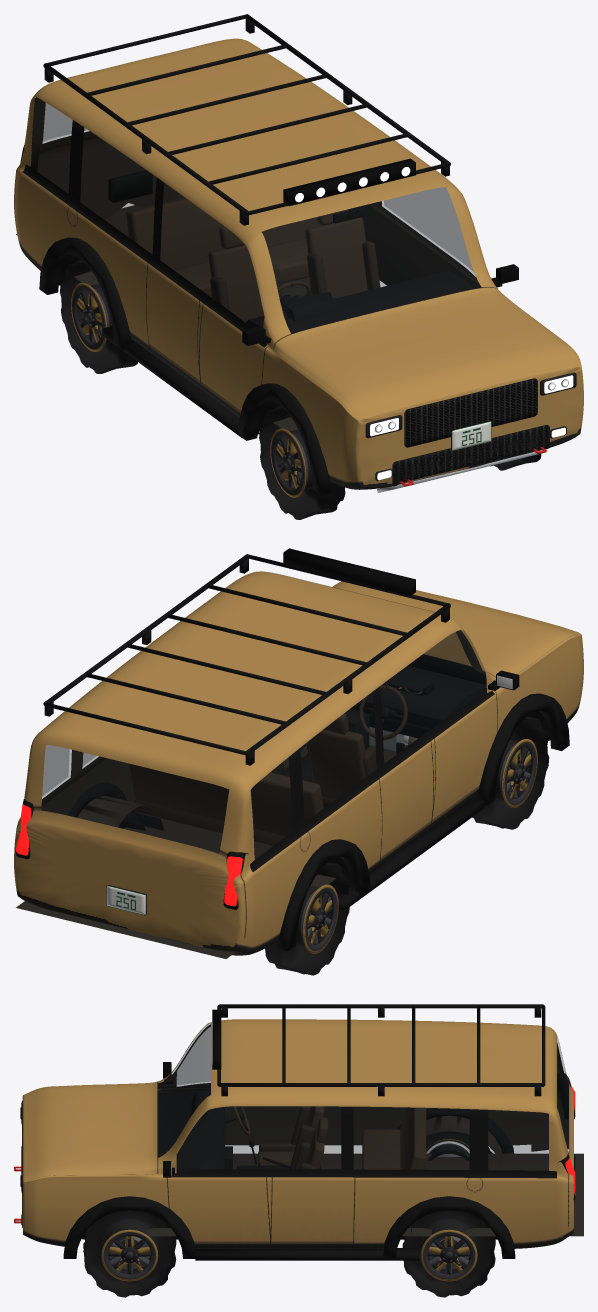
File: yama.glb
3 renders of one model, top to bottom at view 1: azimuth 30°, elevation 25°; view 2: azimuth 150°, elevation 25°; view 3: azimuth 270°, elevation 25°, orthographic. The views are drawn at different scales.
Parts seen in each view (by area): view 1: body.007, aero_o0.008, wheelmesh_FR.007, wheelmesh_RR.007, wheelmesh_FR_o1.008, wheelmesh_RR_o1.008, wheelmesh_FR_o2.008, wheelmesh_RR_o2.008; view 2: body.007, aero_o0.008, wheelmesh_FR.007, wheelmesh_RR.007, wheelmesh_FR_o1.008, wheelmesh_RR_o1.008, steering_wheel.007, wheelmesh_RR_o2.008, wheelmesh_FR_o2.008; view 3: body.007, aero_o0.008, wheelmesh_FL.007, wheelmesh_RL.007, wheelmesh_RL_o1.008, wheelmesh_FL_o1.008, wheelmesh_RR.007, wheelmesh_RL_o2.008, wheelmesh_FL_o2.008.
Part boxes in pixels (bbox=[...]): body.007: bbox=[14, 38, 583, 495]; aero_o0.008: bbox=[43, 14, 450, 225]; wheelmesh_FR.007: bbox=[259, 406, 345, 519]; wheelmesh_RR.007: bbox=[60, 260, 137, 373]; wheelmesh_FR_o1.008: bbox=[271, 431, 303, 495]; wheelmesh_RR_o1.008: bbox=[72, 285, 104, 349]; wheelmesh_FR_o2.008: bbox=[270, 428, 306, 497]; wheelmesh_RR_o2.008: bbox=[71, 282, 106, 351]; body.007: bbox=[14, 571, 583, 958]; aero_o0.008: bbox=[43, 548, 450, 765]; wheelmesh_FR.007: bbox=[472, 716, 549, 829]; wheelmesh_RR.007: bbox=[265, 862, 349, 975]; wheelmesh_FR_o1.008: bbox=[504, 741, 536, 805]; wheelmesh_RR_o1.008: bbox=[305, 887, 337, 951]; steering_wheel.007: bbox=[359, 685, 407, 739]; wheelmesh_RR_o2.008: bbox=[302, 884, 338, 953]; wheelmesh_FR_o2.008: bbox=[502, 739, 537, 807]; body.007: bbox=[14, 1019, 583, 1260]; aero_o0.008: bbox=[212, 1004, 545, 1096]; wheelmesh_FL.007: bbox=[83, 1210, 176, 1297]; wheelmesh_RL.007: bbox=[402, 1210, 495, 1297]; wheelmesh_RL_o1.008: bbox=[423, 1232, 475, 1279]; wheelmesh_FL_o1.008: bbox=[103, 1232, 155, 1279]; wheelmesh_RR.007: bbox=[426, 1131, 493, 1160]; wheelmesh_RL_o2.008: bbox=[420, 1229, 477, 1281]; wheelmesh_FL_o2.008: bbox=[101, 1229, 158, 1281].
Bounding box in the file's own units: 2.24 × 2.15 × 5.09.
38 materials, 4 textured.
